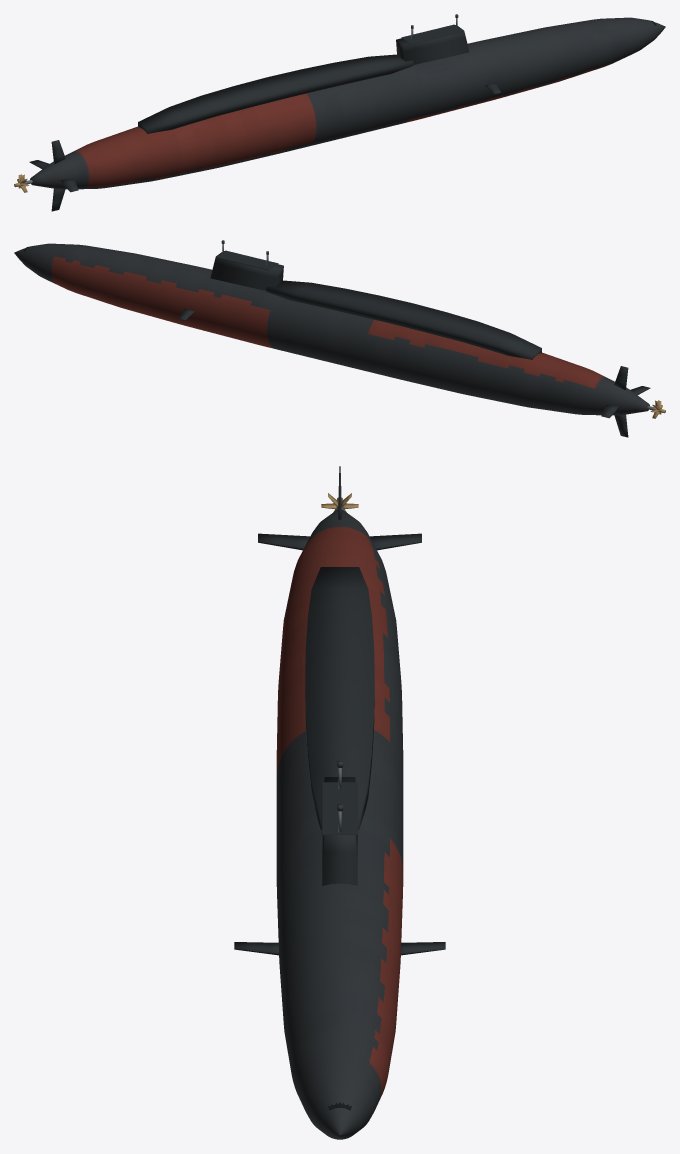
Rendered from RU_SSBN_DeltaI.glb.
The picture shows the model from 3 angles, top to bottom: view 1: azimuth 30°, elevation 25°; view 2: azimuth 150°, elevation 25°; view 3: azimuth 270°, elevation 25°; orthographic projection. The views are drawn at different scales.
Parts seen in each view (by area): view 1: RU_SSBN_DeltaI_LOD0; view 2: RU_SSBN_DeltaI_LOD0; view 3: RU_SSBN_DeltaI_LOD0.
Part boxes in pixels (left/top/right/bottom): RU_SSBN_DeltaI_LOD0: left=14, top=14, right=665, bottom=211; RU_SSBN_DeltaI_LOD0: left=14, top=240, right=665, bottom=437; RU_SSBN_DeltaI_LOD0: left=234, top=466, right=445, bottom=1139.
Size of the model in its own units: 143 by 20.46 by 20.06.
6 materials, 1 textured.
